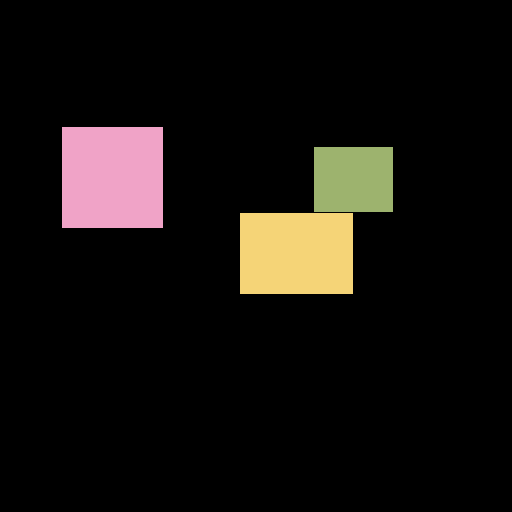rectangle: (240, 213, 352, 293), (314, 147, 392, 211)
square: (62, 127, 162, 227)
